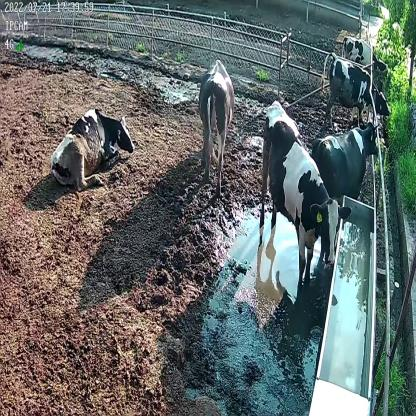cow: (258, 99, 354, 293), (50, 104, 136, 197), (312, 123, 384, 205), (321, 49, 394, 126), (199, 60, 234, 193), (340, 34, 388, 78)
